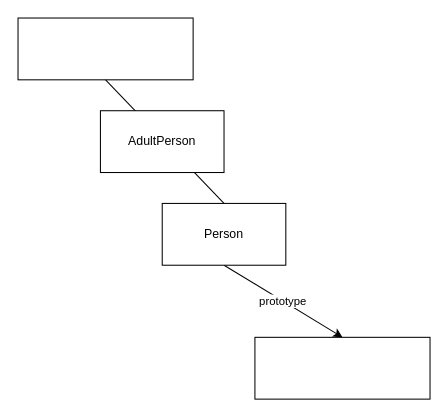
Image size: 448x417. Some labels were removed from this diagram. Each missing label, with the centre of its shape:
"Employee" belongs at point (105, 48).
"Object" belongs at point (342, 367).
